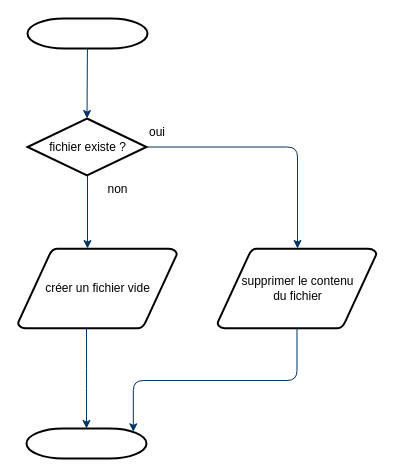
This 395x476 diagram has some shape labels left out. The centre of each missing label's shape, as x and y in pixels:
end: point (86, 443)
start: point (87, 33)
